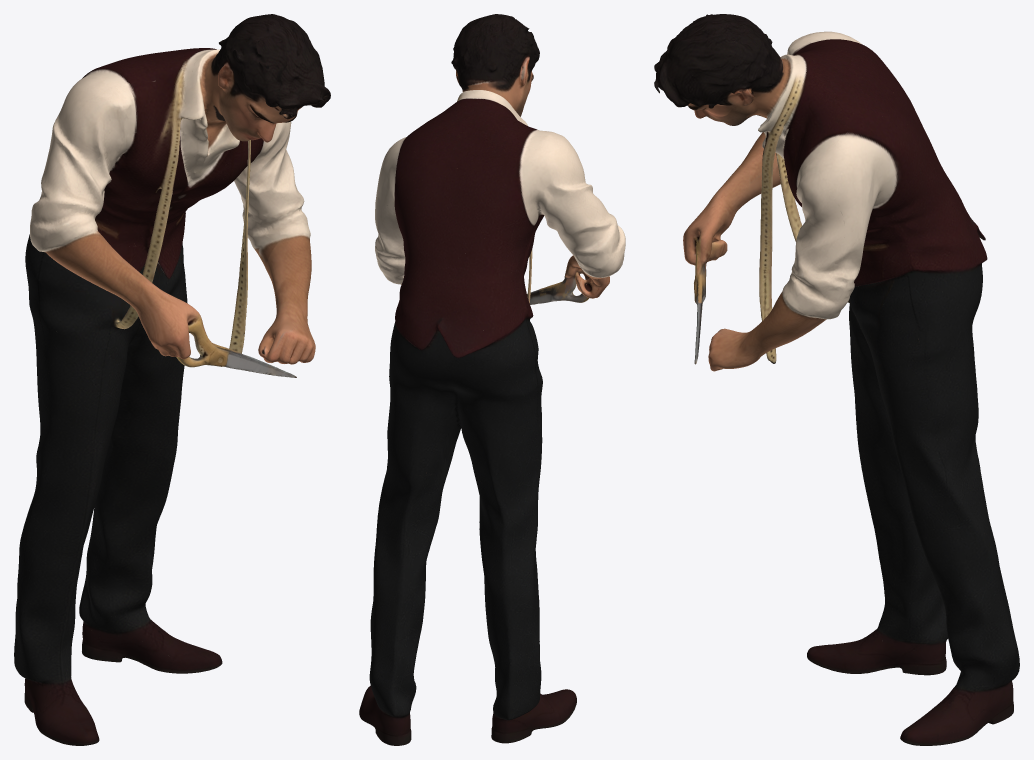
File: tailor_pose1.glb
3 renders of one model, left to right at view 1: azimuth 30°, elevation 25°; view 2: azimuth 150°, elevation 25°; view 3: azimuth 270°, elevation 25°, orthographic. The views are drawn at different scales.
Size of the model in its own units: 0.7357 by 1.89 by 0.8834.
1 material, 1 textured.
